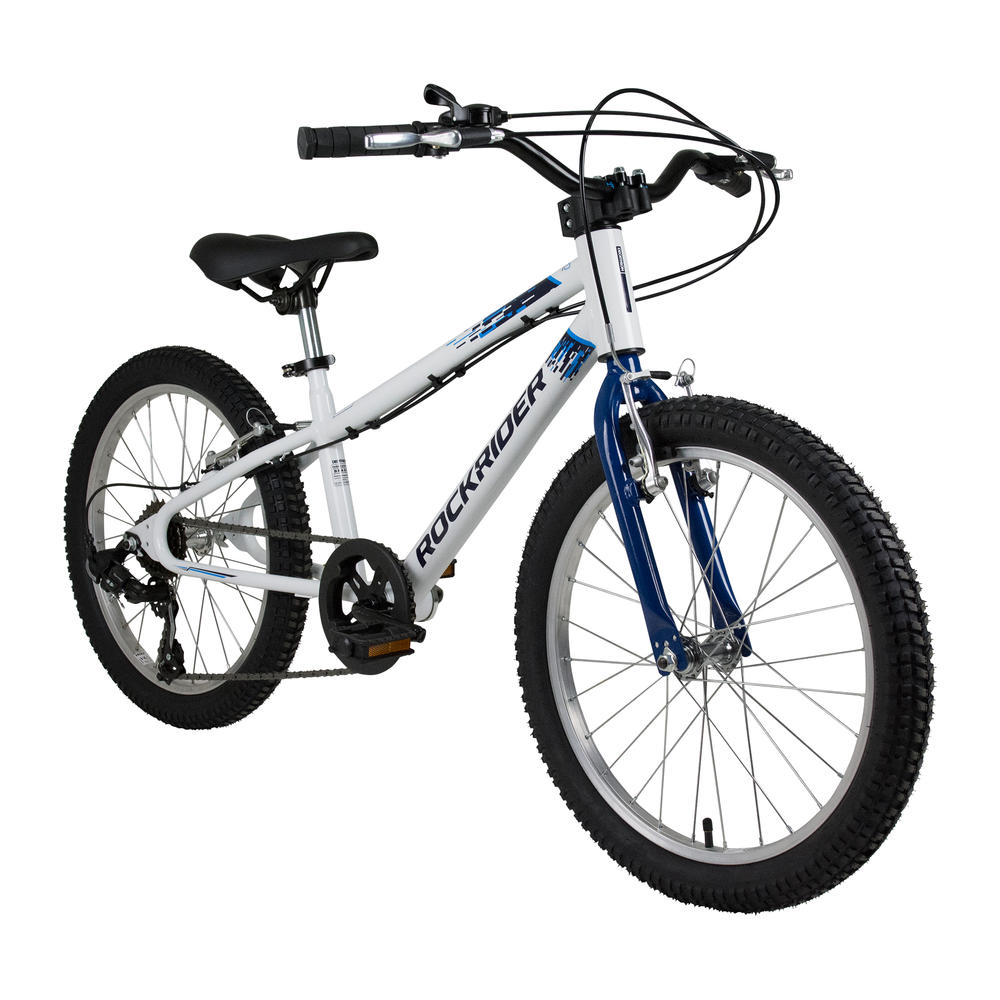Kids_bicycle: (77, 85, 929, 915)
